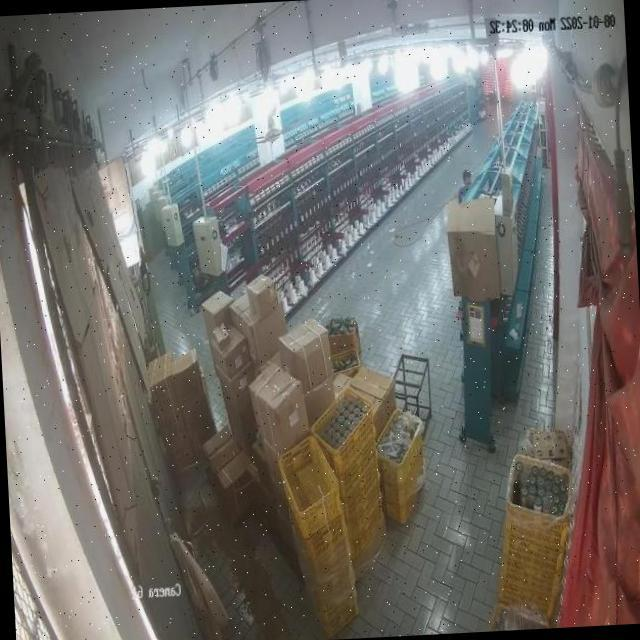person: (454, 162, 474, 204)
